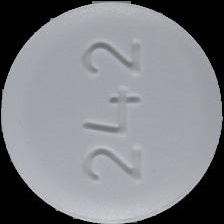63187-508: (0, 0, 224, 224)
